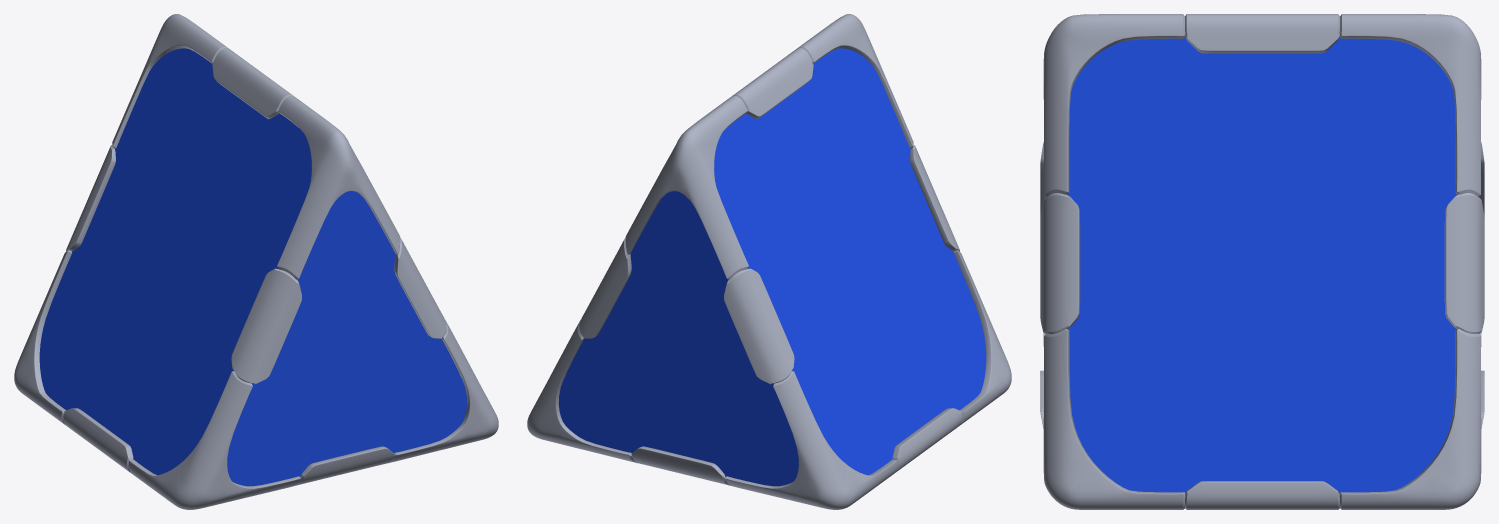
The model's file is Detail_Triangle.fbx.
3 renders of one model, left to right at view 1: azimuth 30°, elevation 25°; view 2: azimuth 150°, elevation 25°; view 3: azimuth 270°, elevation 25°, orthographic. The views are drawn at different scales.
Visible parts, largest first — view 1: Detail_Triangle; view 2: Detail_Triangle; view 3: Detail_Triangle.
Boxes of the visible parts, box(x1,y1,x2,y2) form: Detail_Triangle: box(14, 14, 498, 509); Detail_Triangle: box(527, 14, 1011, 509); Detail_Triangle: box(1040, 14, 1484, 509).
Bounding box in the file's own units: 149 × 152 × 150.
Materials: 1 (1 with a texture image).
